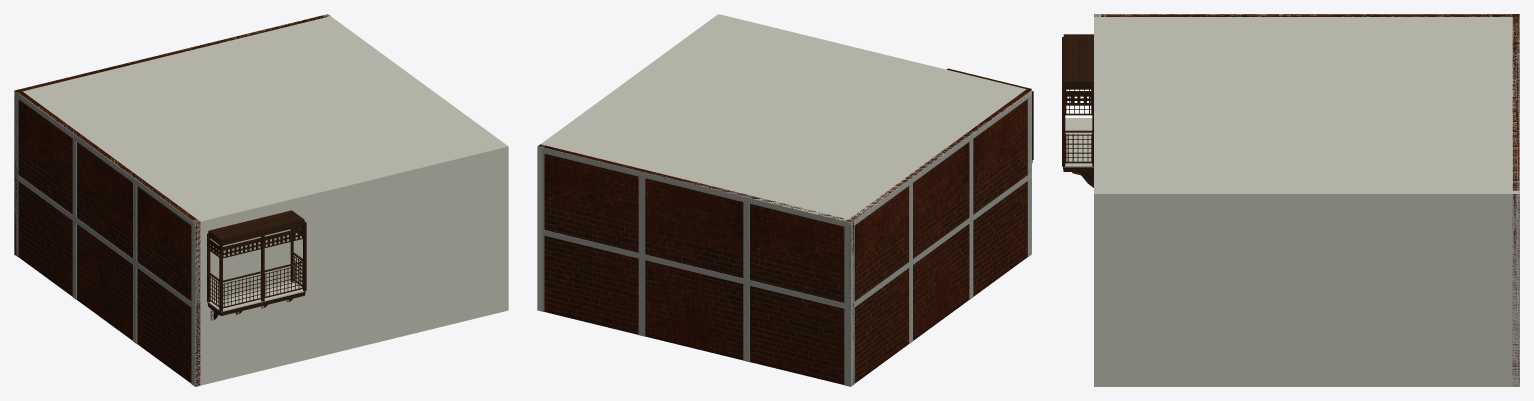
The model's file is building.glb.
The picture shows the model from 3 angles, left to right: view 1: azimuth 30°, elevation 25°; view 2: azimuth 150°, elevation 25°; view 3: azimuth 270°, elevation 25°; orthographic projection. The views are drawn at different scales.
Parts seen in each view (by area): view 1: roof/house:0/roof_slab#0001, house:0/edge0/z0/house:0/edge0/z0/wall_0_0, house:0/edge3/z0/house:0/edge3/z0/wall_0_0, balcony/sample/balcony_cover#0001, house:0/edge2/z0/house:0/edge2/z0/wall_0_0, house:0/edge3/z0/house:0/edge3/z0/beam_0_0, house:0/edge3/z0/house:0/edge3/z0/beam_1_0, house:0/edge1/z0/house:0/edge1/z0/wall_0_0, balcony/sample/balcony_platform#0001, balcony/sample/balcony_fretwork#0003, balcony/sample/balcony_fascia#0001, balcony/sample/balcony_fretwork#0002; view 2: roof/house:0/roof_slab#0001, house:0/edge2/z0/house:0/edge2/z0/wall_0_0, house:0/edge3/z0/house:0/edge3/z0/wall_0_0, house:0/edge1/z0/house:0/edge1/z0/wall_0_0, house:0/edge2/z0/house:0/edge2/z0/beam_0_0, house:0/edge2/z0/house:0/edge2/z0/beam_1_0, house:0/edge3/z0/house:0/edge3/z0/beam_0_0, house:0/edge0/z0/house:0/edge0/z0/wall_0_0, house:0/edge3/z0/house:0/edge3/z0/beam_1_0, house:0/edge2/z0/house:0/edge2/z0/column_2_0, house:0/edge2/z0/house:0/edge2/z0/column_1_1, house:0/edge2/z0/house:0/edge2/z0/column_2_1 (+3 smaller); view 3: house:0/edge1/z0/house:0/edge1/z0/wall_0_0, roof/house:0/roof_slab#0001, house:0/edge0/z0/house:0/edge0/z0/wall_0_0, house:0/edge2/z0/house:0/edge2/z0/wall_0_0, balcony/sample/balcony_cover#0001, balcony/sample/balcony_platform#0001, house:0/edge3/z0/house:0/edge3/z0/wall_0_0.
Part boxes in pixels (x1,y1,x2,y2): roof/house:0/roof_slab#0001: (16, 15, 507, 225); house:0/edge0/z0/house:0/edge0/z0/wall_0_0: (192, 144, 508, 386); house:0/edge3/z0/house:0/edge3/z0/wall_0_0: (17, 89, 200, 386); balcony/sample/balcony_cover#0001: (208, 210, 304, 242); house:0/edge2/z0/house:0/edge2/z0/wall_0_0: (14, 14, 329, 255); house:0/edge3/z0/house:0/edge3/z0/beam_0_0: (14, 173, 195, 309); house:0/edge3/z0/house:0/edge3/z0/beam_1_0: (14, 91, 195, 228); house:0/edge1/z0/house:0/edge1/z0/wall_0_0: (323, 14, 508, 311); balcony/sample/balcony_platform#0001: (208, 281, 304, 312); balcony/sample/balcony_fretwork#0003: (264, 227, 303, 247); balcony/sample/balcony_fascia#0001: (207, 291, 305, 315); balcony/sample/balcony_fretwork#0002: (223, 238, 261, 258); roof/house:0/roof_slab#0001: (540, 14, 1031, 225); house:0/edge2/z0/house:0/edge2/z0/wall_0_0: (538, 144, 853, 384); house:0/edge3/z0/house:0/edge3/z0/wall_0_0: (846, 89, 1030, 383); house:0/edge1/z0/house:0/edge1/z0/wall_0_0: (537, 14, 721, 311); house:0/edge2/z0/house:0/edge2/z0/beam_0_0: (542, 230, 851, 310); house:0/edge2/z0/house:0/edge2/z0/beam_1_0: (538, 146, 851, 228); house:0/edge3/z0/house:0/edge3/z0/beam_0_0: (850, 172, 1031, 309); house:0/edge0/z0/house:0/edge0/z0/wall_0_0: (716, 14, 1031, 253); house:0/edge3/z0/house:0/edge3/z0/beam_1_0: (850, 90, 1031, 227); house:0/edge2/z0/house:0/edge2/z0/column_2_0: (638, 177, 645, 254); house:0/edge2/z0/house:0/edge2/z0/column_1_1: (844, 227, 851, 304); house:0/edge2/z0/house:0/edge2/z0/column_2_1: (638, 259, 645, 336); house:0/edge1/z0/house:0/edge1/z0/wall_0_0: (1094, 191, 1519, 386); roof/house:0/roof_slab#0001: (1094, 14, 1519, 198); house:0/edge0/z0/house:0/edge0/z0/wall_0_0: (1094, 14, 1100, 386); house:0/edge2/z0/house:0/edge2/z0/wall_0_0: (1512, 14, 1519, 386); balcony/sample/balcony_cover#0001: (1063, 34, 1093, 85); balcony/sample/balcony_platform#0001: (1064, 118, 1093, 167); house:0/edge3/z0/house:0/edge3/z0/wall_0_0: (1094, 14, 1519, 16).
Bounding box in the file's own units: 12 × 6 × 12.89.
Materials: 4 (2 with a texture image).
